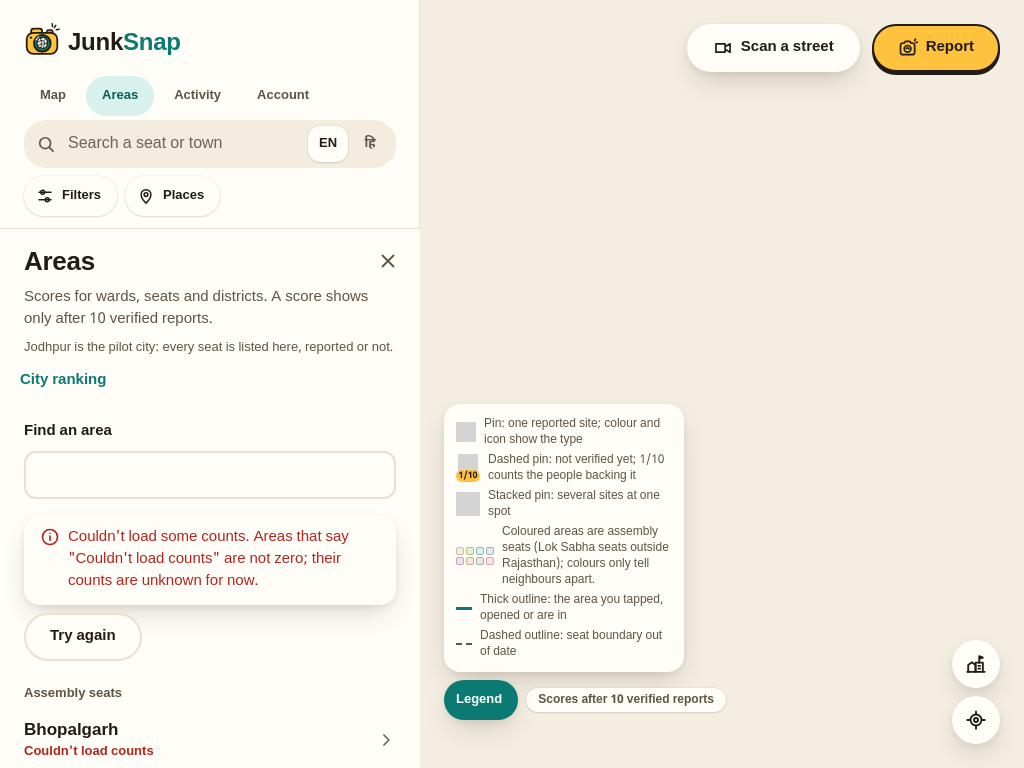
Areas tab when a list fails › never shows zero counts for the areas of the failed list, and loads them on Try again
The image size is (1024, 768).
Expected: the text "Couldn't load some counts" is shown, [68,528,349,591]
Step 1. Click the button "Try again" → (83, 637), box [24,613,142,661]
(page scrolled)
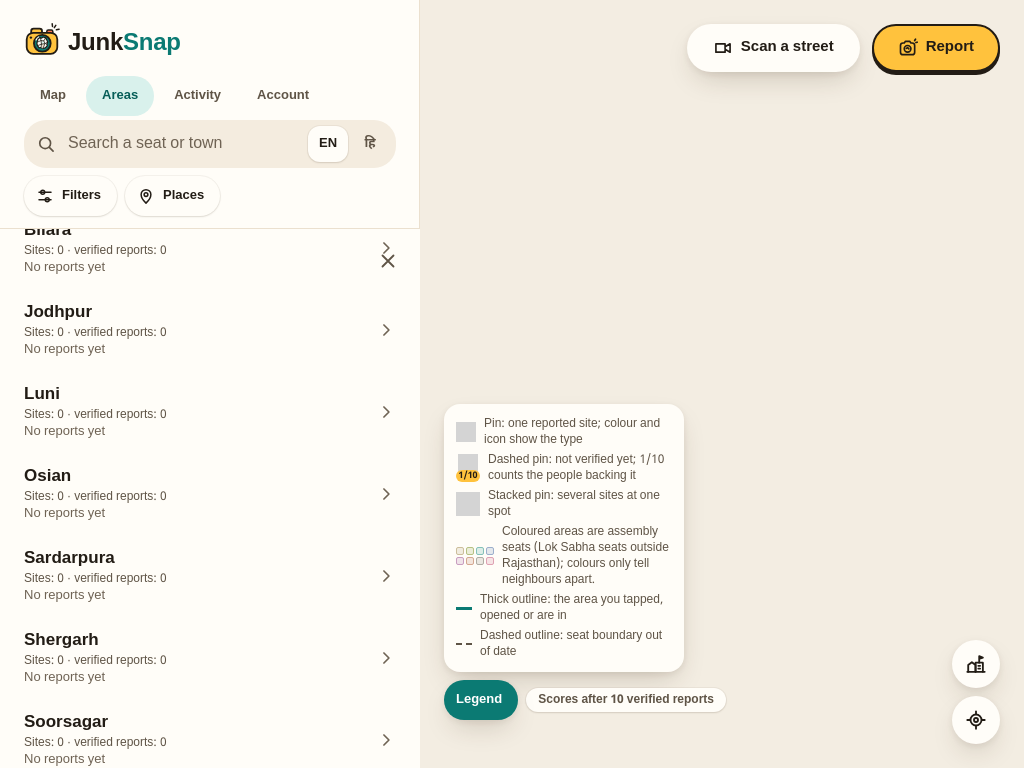
Result: the link "Osian Sites: 0 · verified reports: 0 No reports yet" is shown at [16,453,404,535]
Result: the button "Try again" is gone
